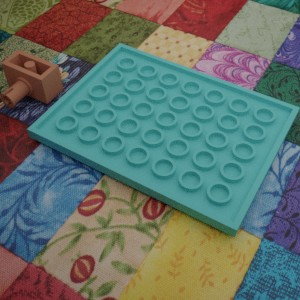lego: (27, 42, 300, 237), (0, 49, 63, 107)
